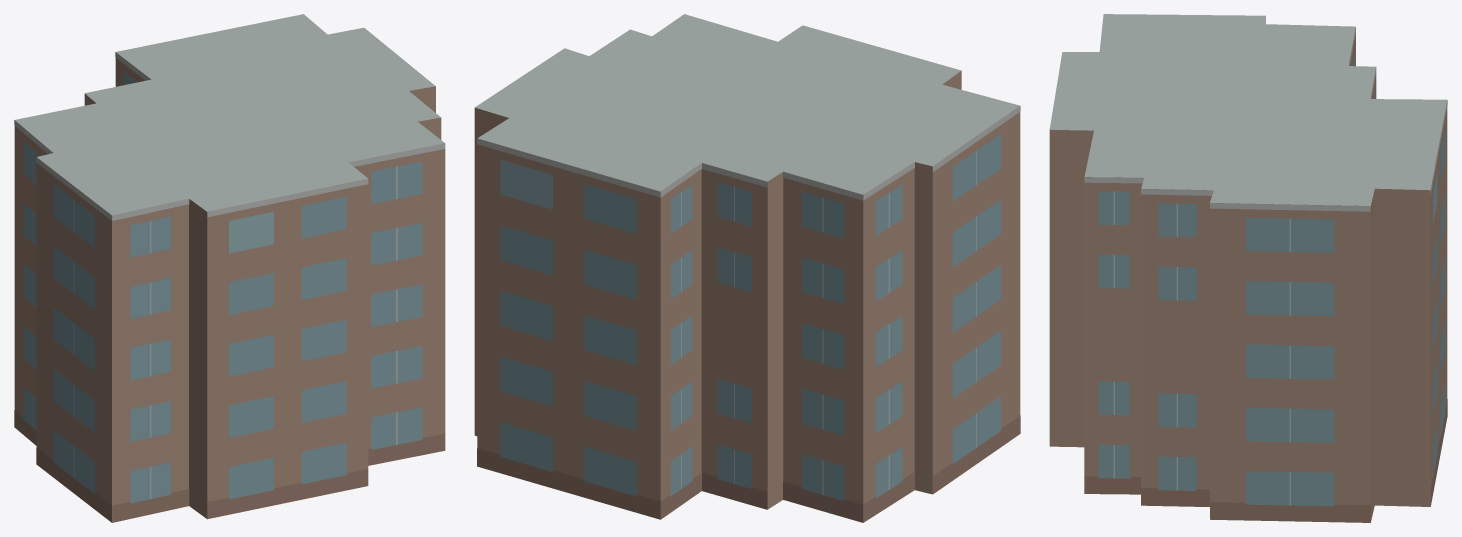
Rendered from survey-upis-33014033.glb.
3 views of the same model, side by side, from view 1: azimuth 30°, elevation 25°; view 2: azimuth 150°, elevation 25°; view 3: azimuth 270°, elevation 25° (orthographic). The views are drawn at different scales.
Parts seen in each view (by area): view 1: survey-upis-33014033.tmp; view 2: survey-upis-33014033.tmp; view 3: survey-upis-33014033.tmp.
Part boxes in pixels (box(x1,y1,x2,y2)): survey-upis-33014033.tmp: box(14, 14, 445, 522); survey-upis-33014033.tmp: box(474, 14, 1020, 522); survey-upis-33014033.tmp: box(1049, 14, 1447, 522).
Size of the model in its own units: 17.62 by 13.55 by 15.43.
